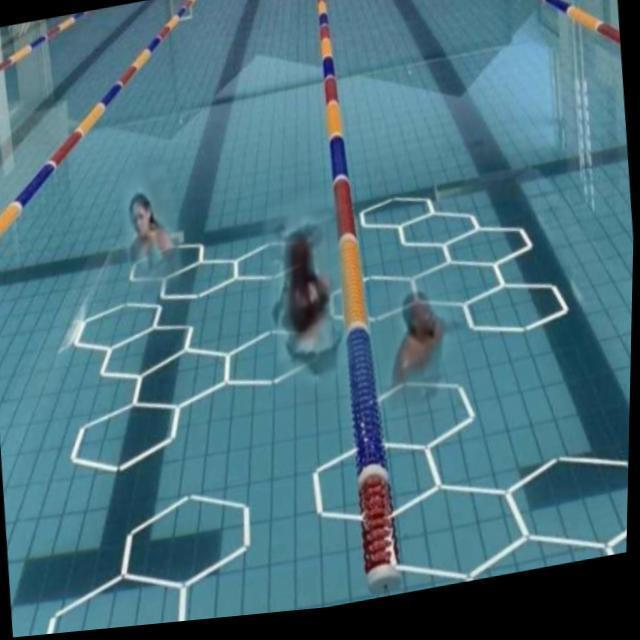swimming: (377, 273, 498, 403), (253, 228, 353, 369), (107, 180, 204, 289)
